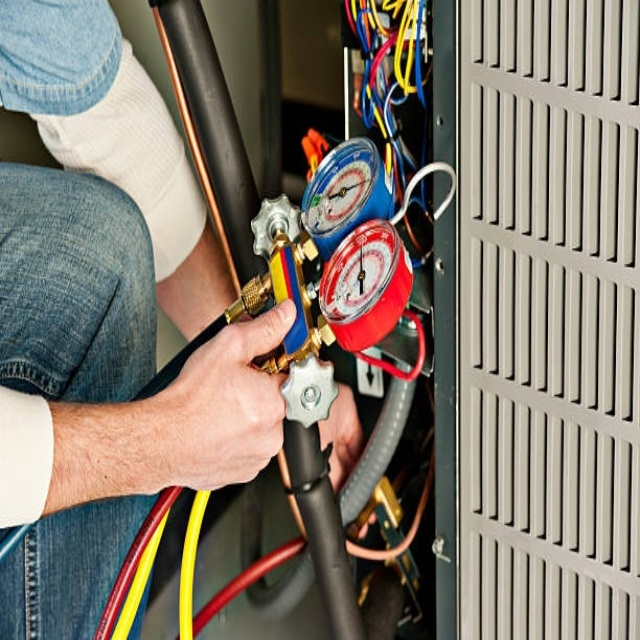Sin_guantes: (147, 301, 303, 495), (312, 380, 364, 497)
